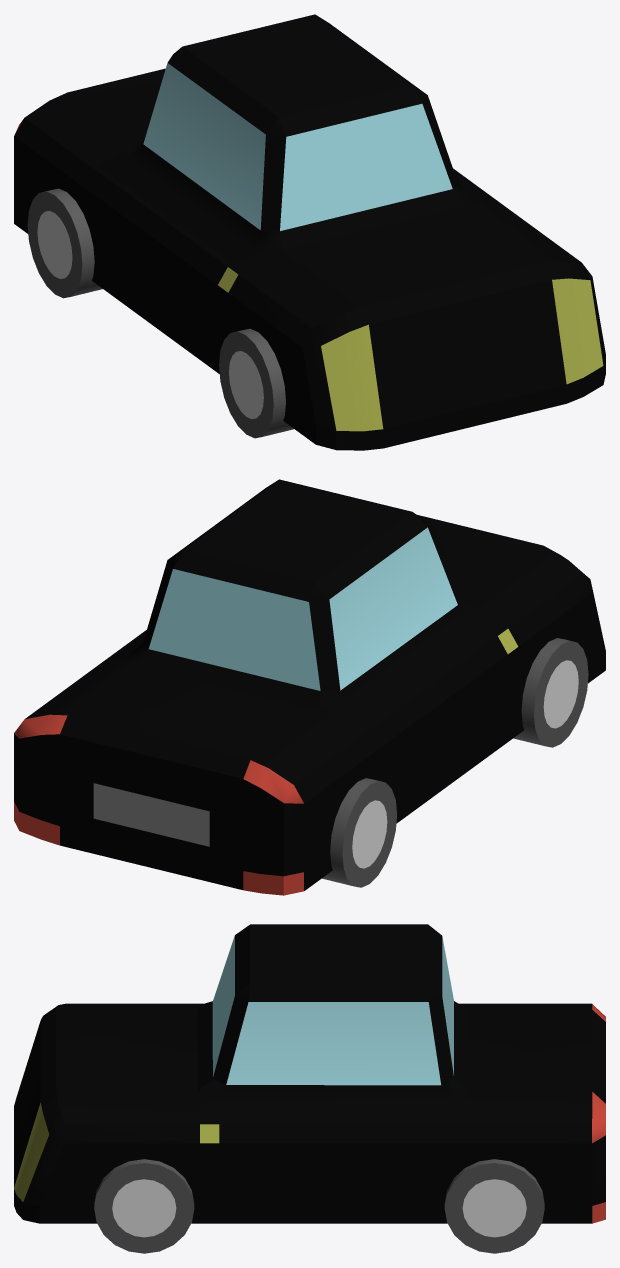
The model's file is Car_01.fbx.
3 renders of one model, top to bottom at view 1: azimuth 30°, elevation 25°; view 2: azimuth 150°, elevation 25°; view 3: azimuth 270°, elevation 25°, orthographic. The views are drawn at different scales.
Visible parts, largest first — view 1: pCube120, polySurface18, polySurface16; view 2: pCube120, polySurface16, polySurface18; view 3: pCube120, polySurface15, polySurface17.
Part boxes in pixels (x1,y1,x2,y2): pCube120: (14,14,605,450); polySurface18: (27,188,102,298); polySurface16: (219,328,293,438); pCube120: (14,479,605,895); polySurface16: (513,638,588,747); polySurface18: (322,778,396,887); pCube120: (14,924,605,1223); polySurface15: (94,1159,194,1253); polySurface17: (444,1159,544,1253).
Bounding box in the file's own units: 38.85 × 30.14 × 69.96.
